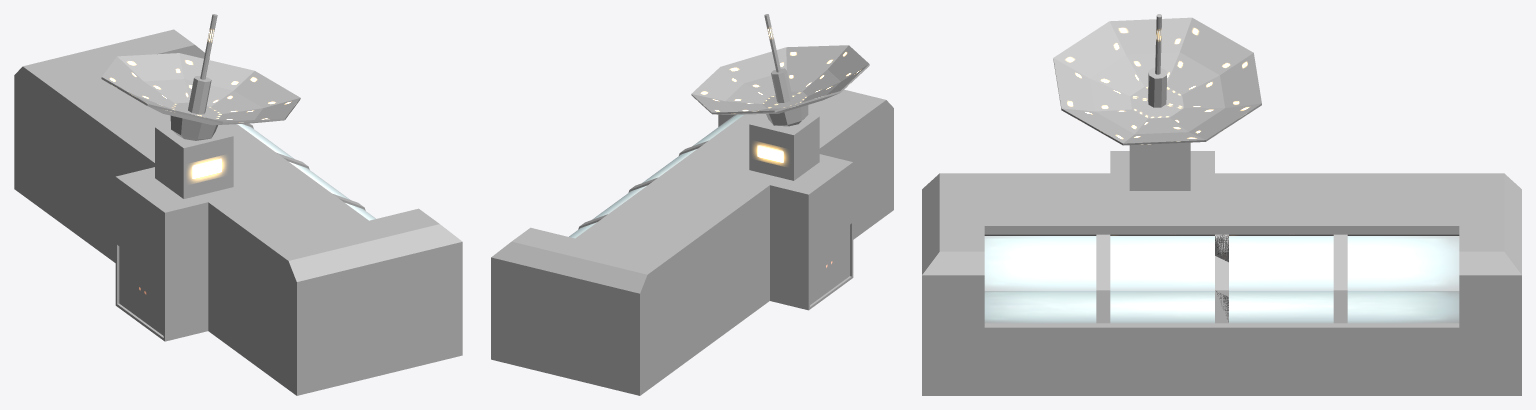
Rendered from Station_DockingCommand.fbx.
3 renders of one model, left to right at view 1: azimuth 30°, elevation 25°; view 2: azimuth 150°, elevation 25°; view 3: azimuth 270°, elevation 25°, orthographic. The views are drawn at different scales.
Parts seen in each view (by area): view 1: Station_Docking Command_1; view 2: Station_Docking Command_1; view 3: Station_Docking Command_1.
Part boxes in pixels (x1=…): Station_Docking Command_1: x1=14, y1=14, x2=462, y2=395; Station_Docking Command_1: x1=491, y1=14, x2=893, y2=395; Station_Docking Command_1: x1=922, y1=14, x2=1521, y2=395.
Size of the model in its own units: 2.82 by 3.37 by 5.9.
